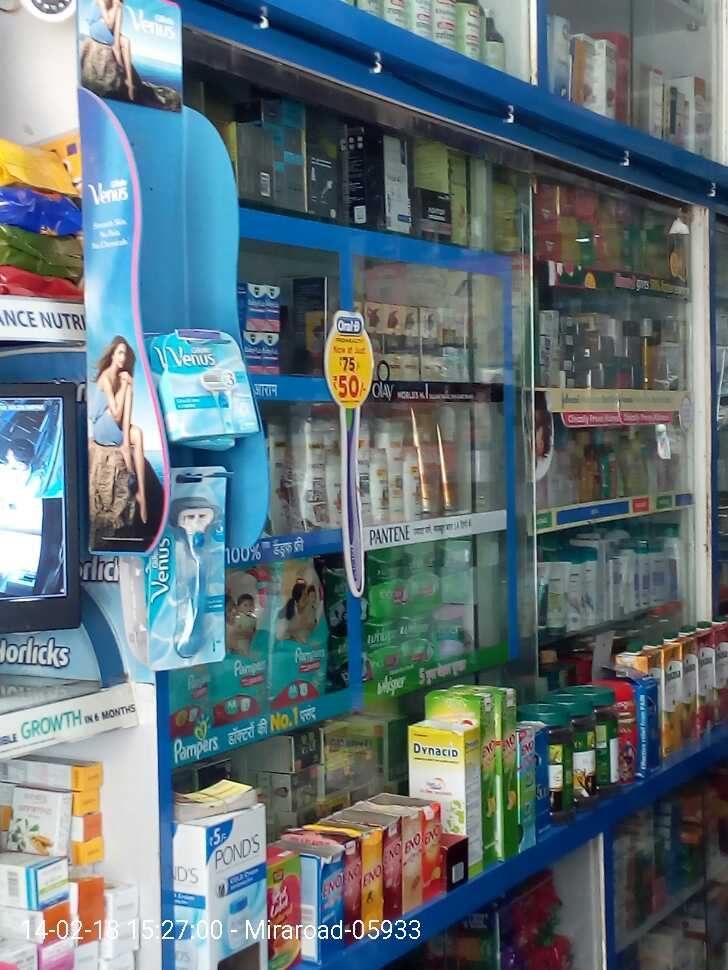beauty: (169, 475, 233, 671), (151, 336, 268, 442), (292, 421, 331, 533), (416, 427, 462, 513), (375, 419, 407, 525), (401, 303, 425, 384), (363, 303, 384, 380), (424, 306, 443, 384), (407, 448, 425, 521), (384, 304, 401, 380)
pharmacy: (265, 565, 331, 693), (222, 574, 274, 716), (371, 557, 409, 618), (363, 628, 407, 674), (413, 550, 445, 609), (245, 283, 278, 334), (409, 627, 448, 666), (246, 337, 274, 372)
